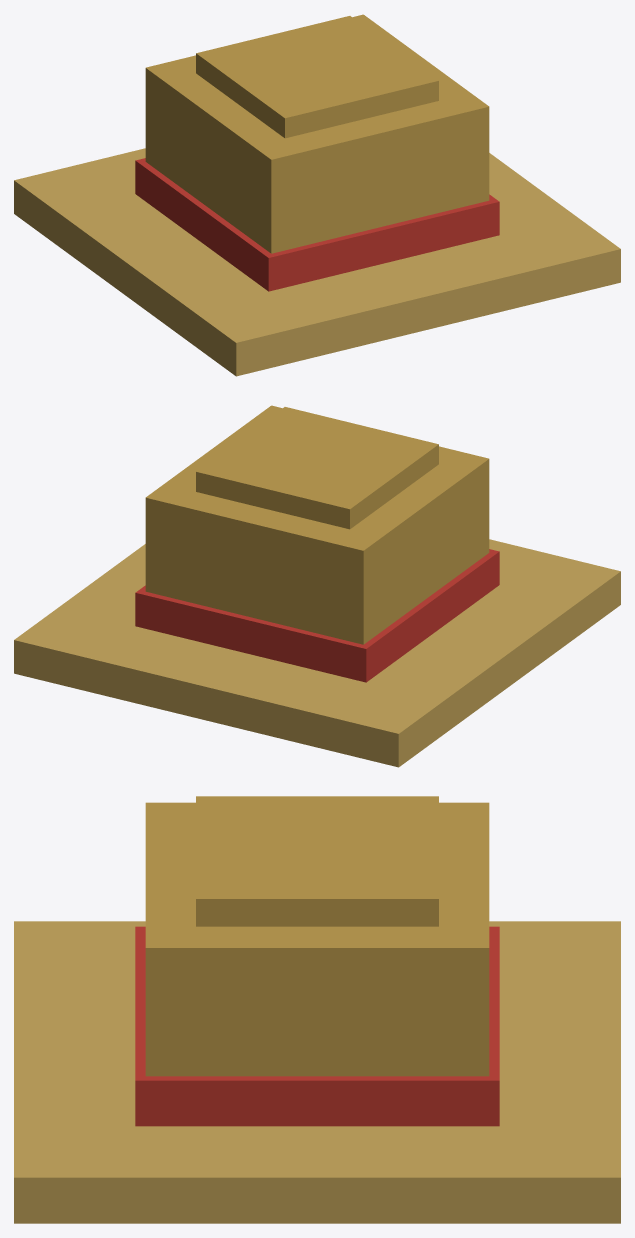
Rendered from cp-hat-straw.glb.
3 views of the same model, one above another, from view 1: azimuth 30°, elevation 25°; view 2: azimuth 150°, elevation 25°; view 3: azimuth 270°, elevation 25° (orthographic). The views are drawn at different scales.
Visible parts, largest first — view 1: box-prop; view 2: box-prop; view 3: box-prop.
Boxes of the visible parts, left/top/right/bottom form: box-prop: left=14, top=14, right=620, bottom=376; box-prop: left=14, top=405, right=620, bottom=767; box-prop: left=14, top=796, right=620, bottom=1223.
Bounding box in the file's own units: 0.6 × 0.27 × 0.6.
